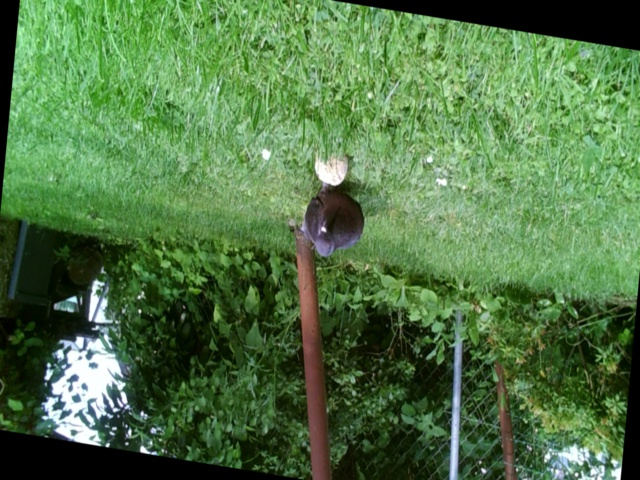Pigeon: (290, 183, 373, 262)
